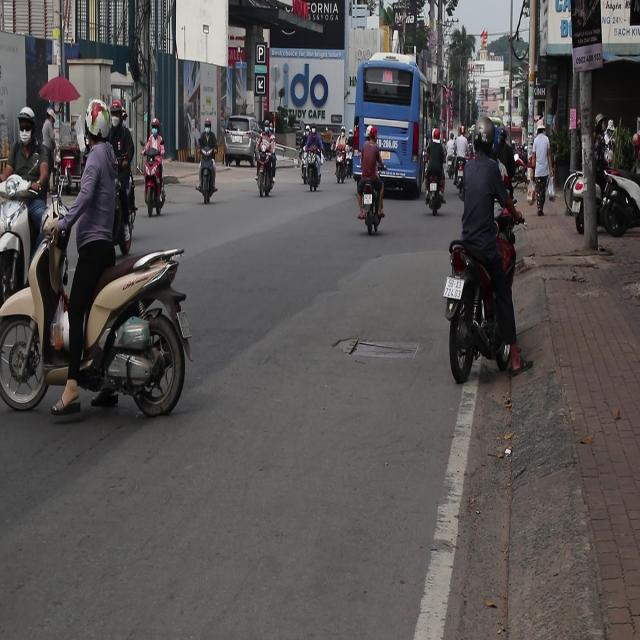bus: (351, 55, 432, 196)
car: (222, 115, 260, 167)
motorbike: (11, 258, 195, 426), (438, 239, 528, 394), (0, 185, 48, 292), (103, 180, 134, 247), (142, 147, 164, 230), (57, 147, 83, 196), (363, 192, 385, 246), (197, 152, 217, 203), (296, 140, 312, 192), (260, 147, 274, 202), (434, 188, 442, 224)
